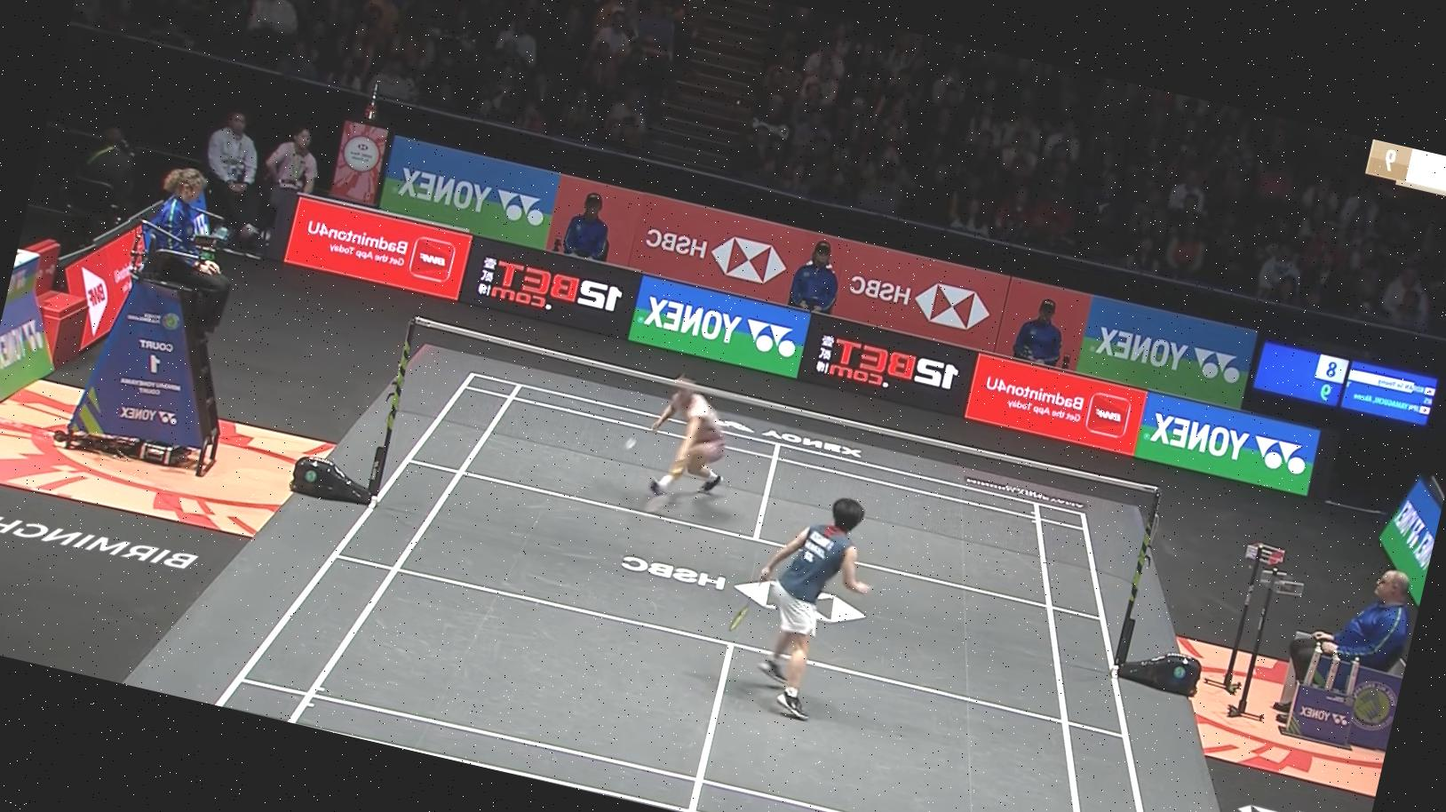Player 1: (613, 366, 752, 526)
Player 2: (723, 470, 895, 741)
shuttle: (616, 430, 640, 458)
